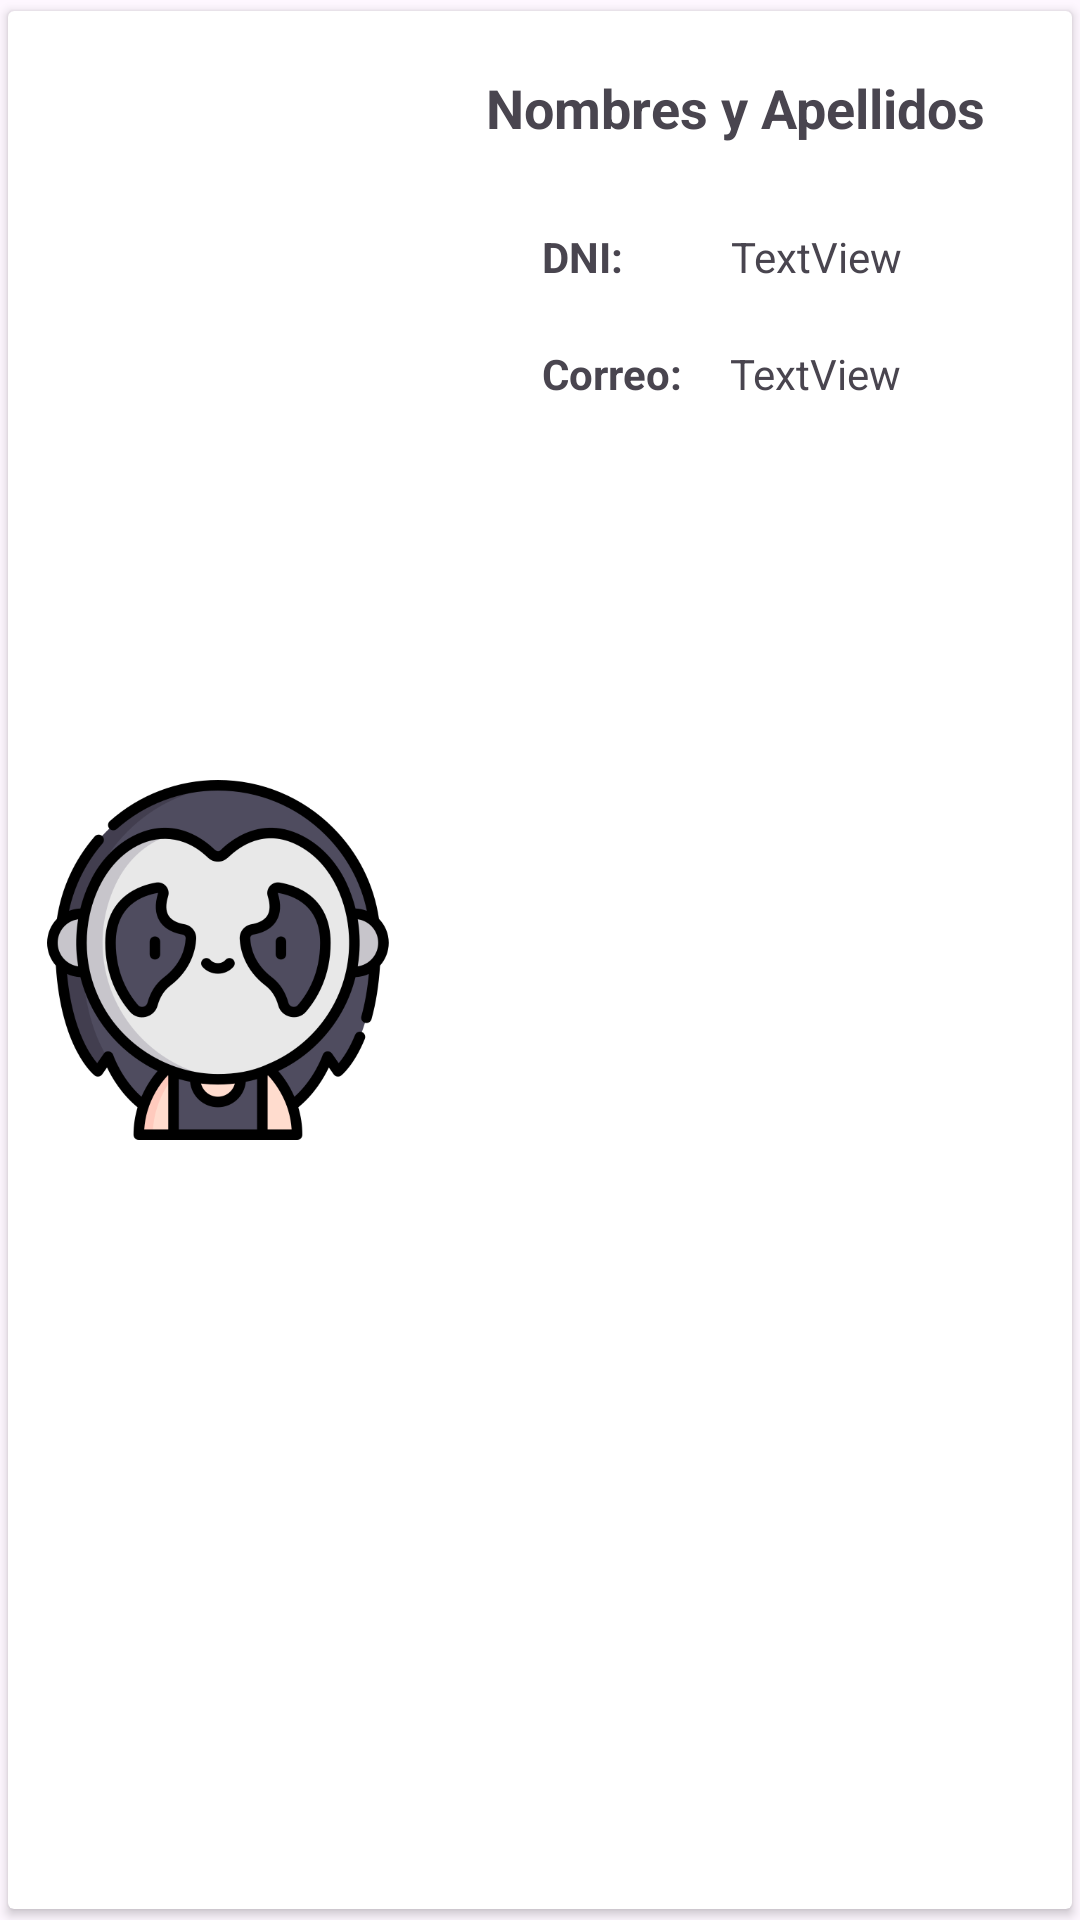

Icons on this 1080 × 1920 Android screen, each with the point to tap as point (x, y):
iconogotico: point (218, 960)
